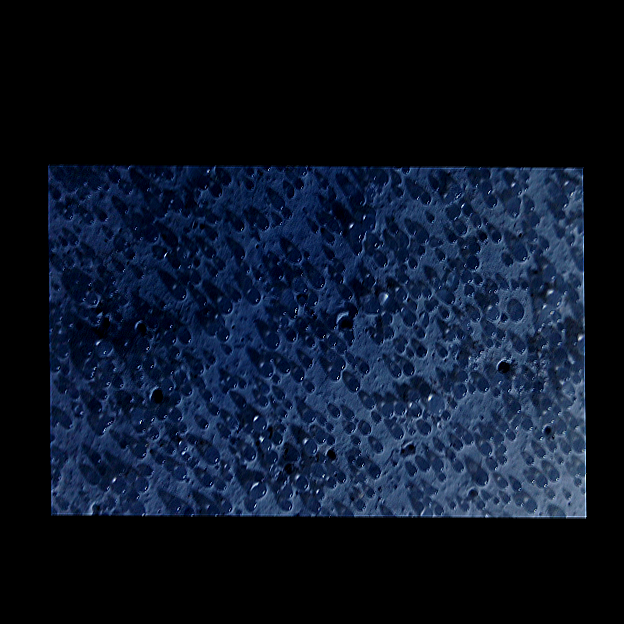GrassBeadSeg: (88, 173, 586, 485), (84, 209, 500, 504), (64, 200, 536, 417), (142, 257, 554, 482), (59, 166, 409, 417), (59, 200, 511, 393), (182, 232, 488, 516), (143, 193, 433, 491), (59, 165, 348, 462), (111, 172, 425, 434), (180, 276, 545, 493), (148, 210, 489, 439), (221, 208, 474, 512), (60, 219, 323, 511), (48, 208, 472, 387), (57, 179, 473, 358), (67, 175, 403, 388), (122, 273, 412, 515), (203, 231, 502, 460), (96, 242, 481, 399), (195, 182, 547, 348), (326, 244, 563, 489), (271, 188, 490, 446), (143, 188, 448, 370), (97, 212, 335, 445), (205, 230, 428, 465), (167, 333, 451, 512), (73, 183, 522, 295), (208, 222, 467, 416), (136, 215, 373, 426), (124, 225, 400, 403), (52, 191, 254, 433), (146, 170, 487, 309), (250, 224, 420, 500), (243, 256, 470, 461), (69, 227, 523, 328), (161, 243, 363, 468), (136, 332, 416, 490), (67, 172, 526, 266), (61, 308, 299, 485), (110, 175, 539, 271), (49, 293, 563, 373), (227, 222, 423, 430), (295, 169, 476, 394), (61, 220, 245, 429), (107, 186, 482, 284), (106, 231, 554, 313), (119, 168, 255, 434), (113, 317, 418, 435), (163, 328, 422, 464), (62, 250, 411, 349), (125, 188, 396, 315), (134, 253, 302, 453), (52, 278, 443, 362), (158, 377, 497, 470), (148, 260, 545, 339), (73, 294, 227, 491), (155, 266, 284, 500), (146, 227, 419, 329), (153, 187, 411, 284), (246, 288, 429, 424), (90, 403, 445, 473), (65, 165, 305, 268), (319, 277, 421, 511), (169, 185, 270, 421), (294, 369, 490, 486), (274, 217, 471, 333), (201, 360, 381, 486), (171, 249, 301, 422), (102, 286, 414, 358), (244, 179, 310, 512), (140, 245, 481, 307), (73, 249, 266, 358), (329, 181, 433, 381), (140, 423, 432, 492), (135, 385, 292, 512), (58, 222, 141, 462), (390, 366, 561, 481), (346, 255, 481, 393), (135, 232, 247, 387), (63, 214, 124, 495), (204, 248, 388, 340), (304, 195, 563, 260), (63, 181, 494, 220), (369, 214, 522, 321), (157, 272, 560, 309), (89, 457, 522, 491), (206, 390, 321, 515), (275, 280, 545, 330), (96, 298, 383, 345), (127, 247, 247, 357), (355, 418, 533, 489), (181, 332, 264, 482), (134, 198, 285, 279), (81, 259, 514, 287), (52, 314, 125, 474), (272, 403, 393, 499), (287, 401, 409, 491), (448, 183, 516, 340), (73, 390, 285, 438), (173, 287, 262, 400), (485, 183, 566, 293), (292, 233, 430, 293), (64, 259, 183, 328), (85, 359, 140, 507), (131, 208, 167, 425), (138, 323, 219, 419), (98, 361, 204, 434), (368, 216, 530, 262), (444, 179, 542, 255), (427, 443, 534, 510), (272, 180, 384, 244), (336, 448, 444, 512), (158, 167, 276, 225), (283, 311, 409, 363), (174, 295, 208, 480), (410, 311, 446, 481), (429, 361, 518, 429), (189, 449, 279, 516), (418, 311, 480, 408), (410, 423, 531, 472), (425, 441, 504, 515), (181, 295, 238, 396), (481, 436, 586, 490), (440, 285, 475, 438), (497, 338, 581, 401), (259, 357, 345, 417), (332, 423, 408, 484), (327, 335, 375, 431), (149, 181, 254, 223), (117, 409, 168, 494), (409, 417, 463, 494), (221, 174, 237, 432), (315, 314, 383, 374), (220, 427, 288, 484), (525, 332, 572, 414), (307, 405, 359, 479), (525, 442, 582, 508), (249, 180, 329, 225), (487, 266, 555, 317), (327, 187, 382, 250), (437, 222, 479, 304), (477, 455, 537, 512), (257, 327, 279, 476), (397, 310, 465, 358), (136, 249, 167, 352), (283, 190, 359, 232), (454, 323, 496, 397), (508, 413, 585, 452), (447, 232, 493, 297), (72, 390, 106, 475), (90, 341, 114, 457), (338, 261, 407, 301), (339, 242, 407, 282), (443, 370, 511, 409), (177, 436, 233, 480), (451, 360, 501, 409), (495, 338, 544, 386), (539, 442, 585, 493), (202, 247, 217, 402), (304, 305, 358, 347), (198, 378, 278, 406), (92, 360, 133, 413), (412, 180, 450, 235), (54, 292, 118, 324), (492, 279, 580, 302), (495, 351, 543, 393), (55, 471, 108, 509), (277, 455, 326, 496), (318, 471, 366, 511), (270, 375, 310, 423), (478, 445, 508, 508), (266, 431, 326, 462), (544, 399, 578, 450), (535, 318, 576, 360), (356, 174, 379, 248), (345, 170, 379, 220), (535, 286, 577, 326), (422, 299, 454, 350), (483, 428, 504, 501), (125, 172, 174, 203), (242, 251, 310, 272), (83, 369, 110, 421), (528, 232, 564, 270), (262, 359, 281, 430), (58, 263, 97, 297), (168, 423, 190, 483), (303, 380, 333, 423), (263, 334, 312, 360), (185, 209, 344, 217), (255, 273, 278, 327), (507, 195, 566, 216), (261, 404, 287, 450), (205, 326, 232, 369), (362, 423, 402, 452), (486, 307, 522, 339), (530, 230, 582, 252), (460, 208, 488, 248), (453, 415, 484, 451), (556, 188, 582, 230), (280, 271, 302, 318), (94, 181, 131, 208), (302, 438, 326, 479), (138, 382, 161, 423), (394, 395, 430, 421), (165, 330, 191, 366), (147, 168, 161, 229), (500, 401, 521, 440), (298, 293, 319, 330), (131, 357, 174, 374), (174, 406, 199, 435), (52, 393, 72, 426), (409, 383, 443, 402), (464, 198, 499, 216), (381, 403, 403, 431), (183, 212, 199, 250), (443, 195, 496, 206), (451, 329, 473, 355), (73, 182, 143, 190), (475, 274, 493, 304), (266, 320, 279, 361), (407, 256, 422, 291), (161, 379, 181, 405), (79, 193, 122, 205), (375, 315, 394, 338), (208, 215, 255, 224), (384, 292, 402, 315), (59, 263, 78, 283), (178, 250, 200, 266), (71, 177, 89, 195), (333, 261, 345, 285), (351, 193, 373, 206), (282, 259, 304, 272), (106, 184, 145, 191), (371, 170, 389, 185), (422, 286, 444, 298), (277, 360, 291, 373), (99, 421, 111, 434), (402, 311, 411, 327), (557, 196, 569, 208), (177, 248, 190, 258), (53, 311, 63, 322), (339, 216, 347, 228), (280, 318, 289, 328), (119, 204, 128, 214), (273, 256, 285, 263), (411, 314, 418, 326), (89, 298, 98, 306), (489, 313, 499, 320), (347, 221, 354, 230), (513, 210, 520, 218), (494, 294, 499, 305), (106, 477, 115, 483), (86, 292, 90, 304), (144, 183, 150, 191), (190, 250, 198, 255), (509, 205, 519, 209), (259, 217, 268, 221), (254, 417, 258, 425), (257, 427, 263, 431)
